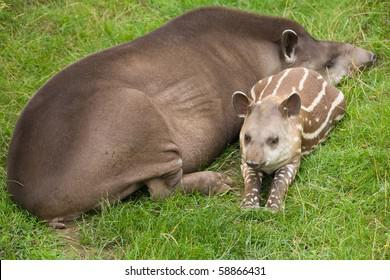Anta: (5, 5, 381, 224), (229, 64, 350, 216)
